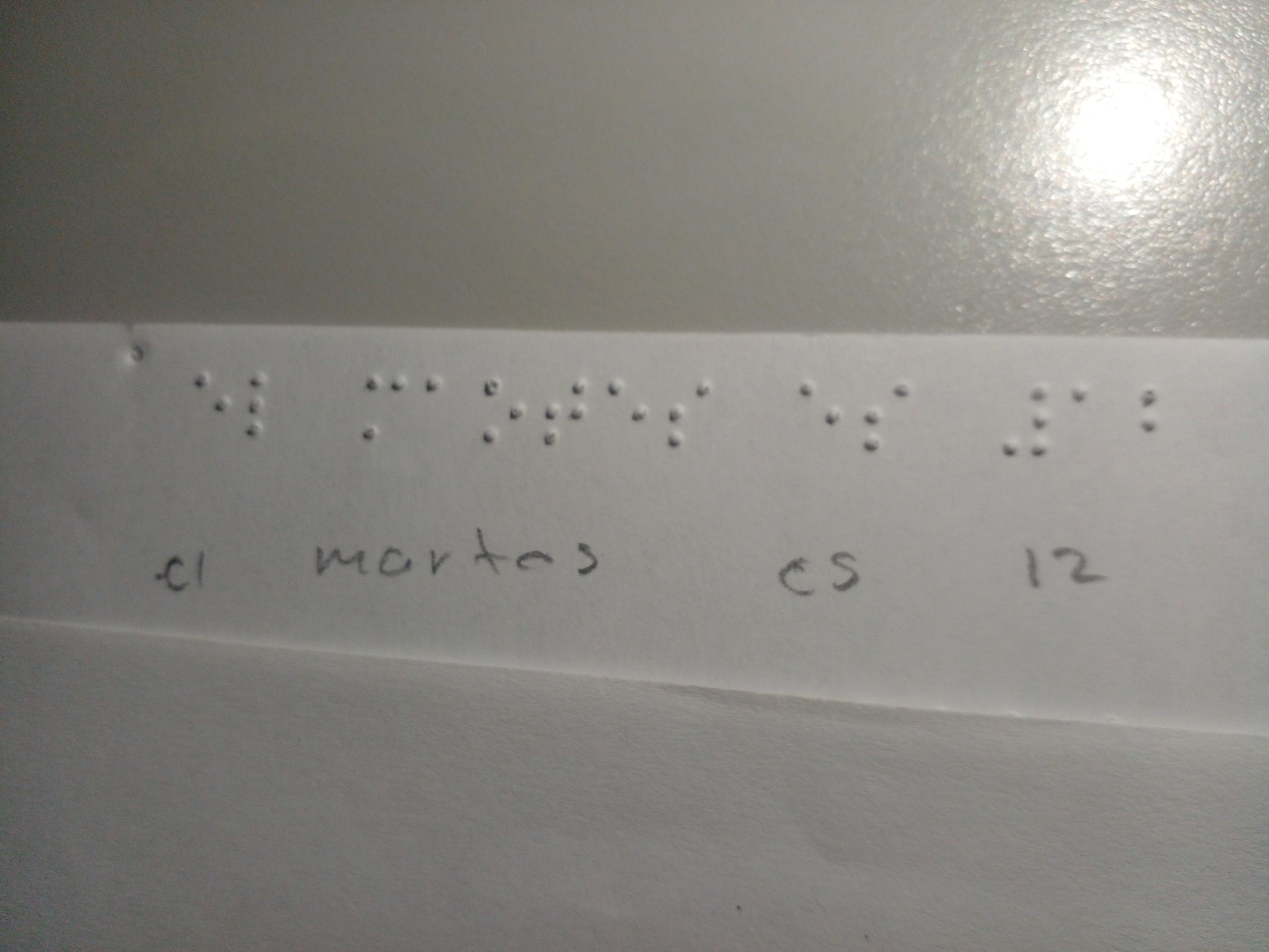012: (987, 366, 1173, 474)
a: (412, 359, 452, 414)
e: (181, 359, 232, 445), (796, 366, 844, 446), (609, 366, 652, 443)
l: (240, 367, 287, 456)
m: (359, 361, 411, 451)
r: (476, 367, 530, 451)
s: (849, 369, 912, 460), (666, 370, 716, 452)
t: (541, 367, 598, 459)
